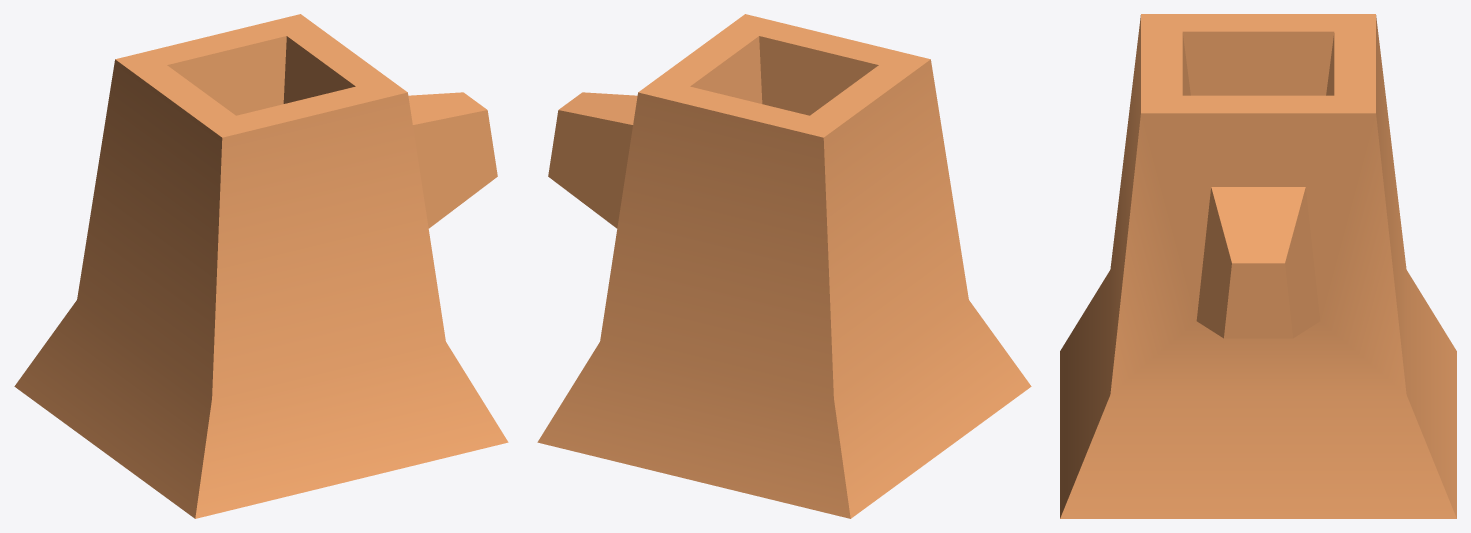
The model's file is treeStump_deep_side.fbx.
3 views of the same model, side by side, from view 1: azimuth 30°, elevation 25°; view 2: azimuth 150°, elevation 25°; view 3: azimuth 270°, elevation 25° (orthographic). The views are drawn at different scales.
Visible parts, largest first — view 1: treeStump_deep_side; view 2: treeStump_deep_side; view 3: treeStump_deep_side.
Part boxes in pixels (bbox=[...]): treeStump_deep_side: bbox=[14, 14, 508, 518]; treeStump_deep_side: bbox=[537, 14, 1031, 518]; treeStump_deep_side: bbox=[1060, 14, 1456, 518].
Size of the model in its own units: 3.39 by 2.91 by 2.81.
